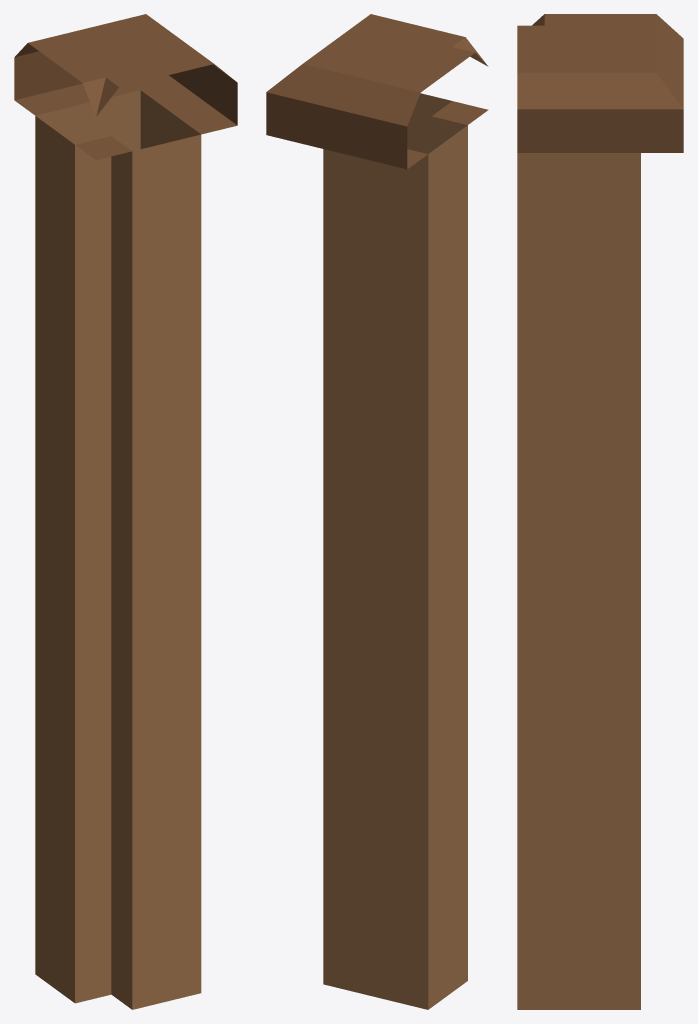
The model's file is M_Fence02_2.fbx.
3 renders of one model, left to right at view 1: azimuth 30°, elevation 25°; view 2: azimuth 150°, elevation 25°; view 3: azimuth 270°, elevation 25°, orthographic. The views are drawn at different scales.
Parts seen in each view (by area): view 1: M_Fence02_2; view 2: M_Fence02_2; view 3: M_Fence02_2.
Boxes of the visible parts, bbox=[...] form: M_Fence02_2: bbox=[14, 14, 237, 1009]; M_Fence02_2: bbox=[266, 14, 488, 1009]; M_Fence02_2: bbox=[517, 14, 683, 1009].
Size of what is drawn, in the model's own units: 20 by 20 by 125.
